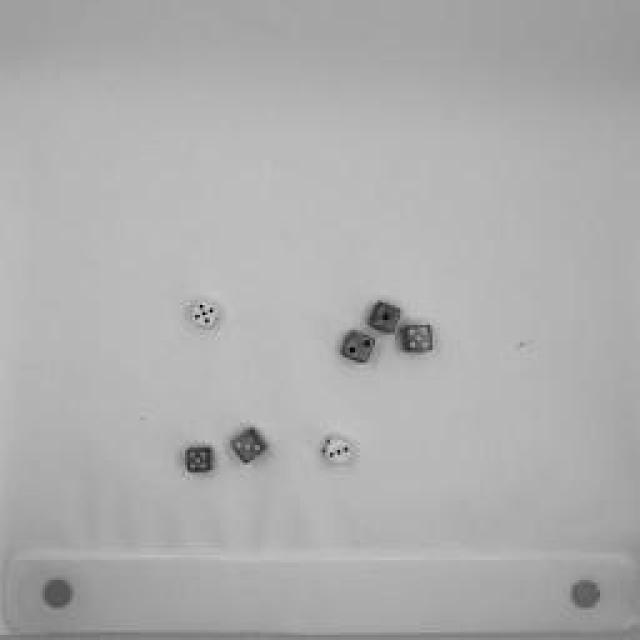dice_1: (365, 299, 403, 339)
dice_2: (336, 330, 384, 365)
dice_3: (225, 423, 270, 465), (319, 431, 356, 471)
dice_5: (185, 299, 225, 331), (402, 320, 438, 355), (182, 445, 218, 475)
